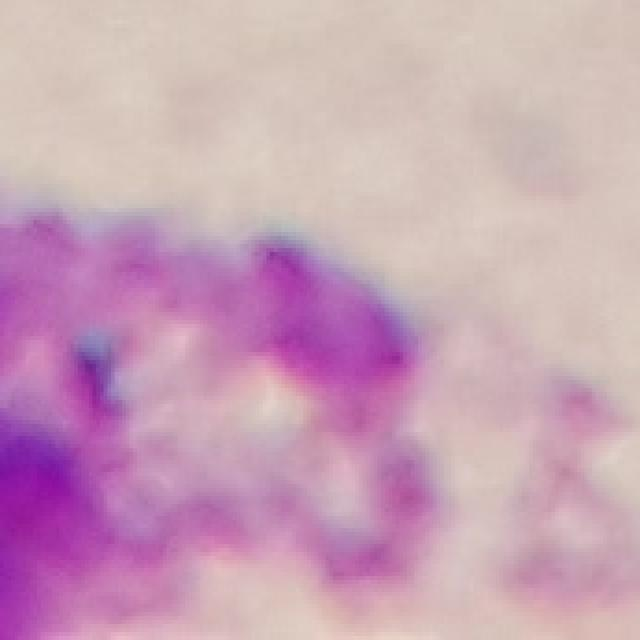non-sperm: (0, 214, 419, 638)
